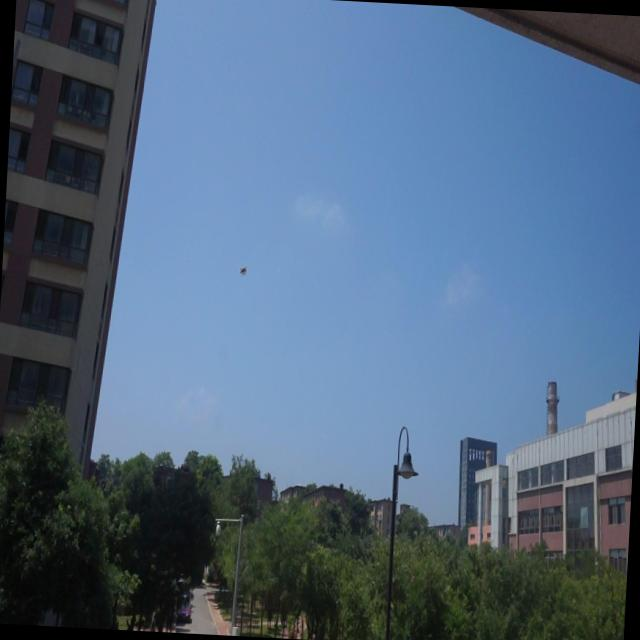drone: (236, 262, 250, 278)
